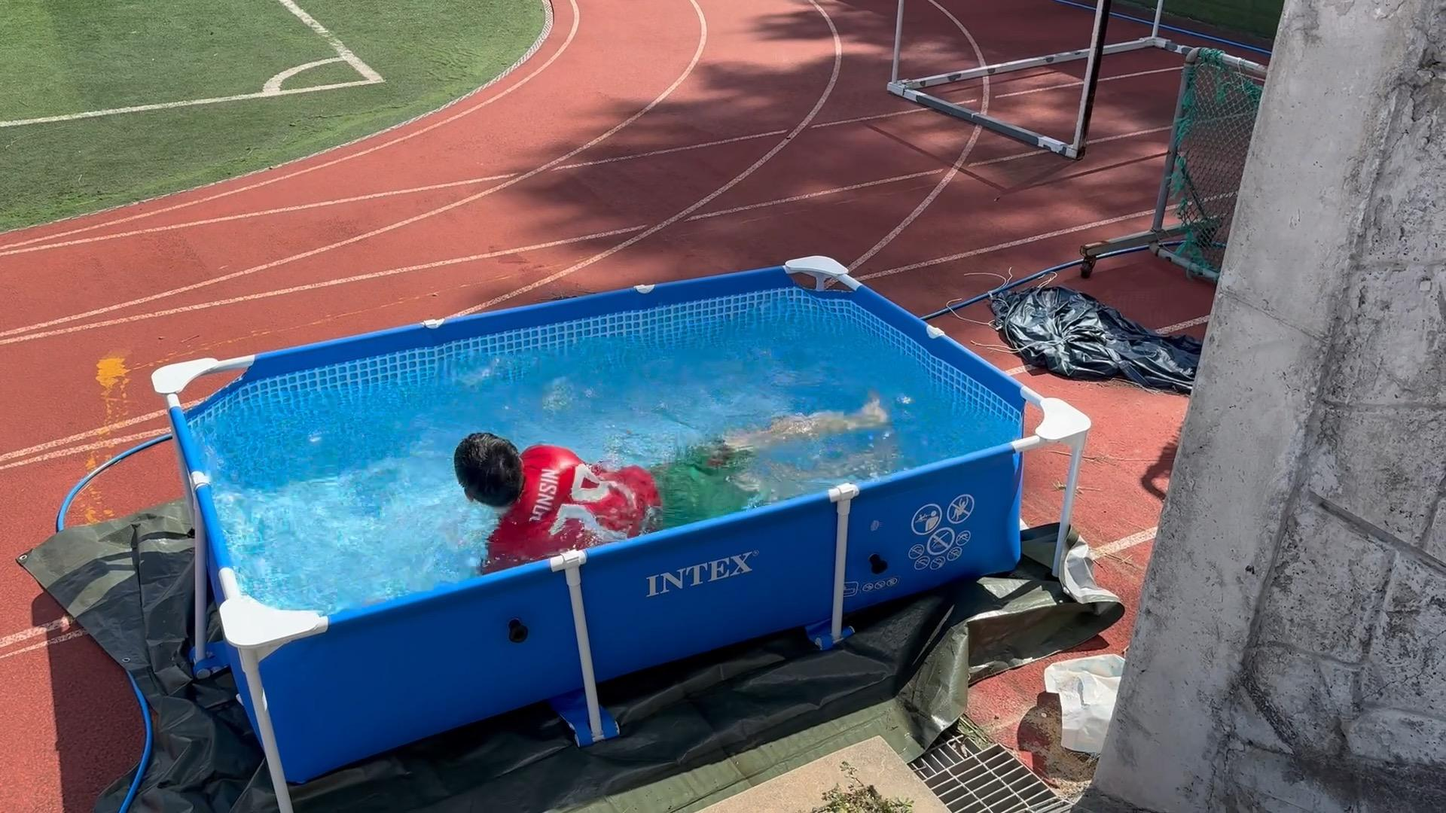Drowning: (426, 354, 901, 567)
